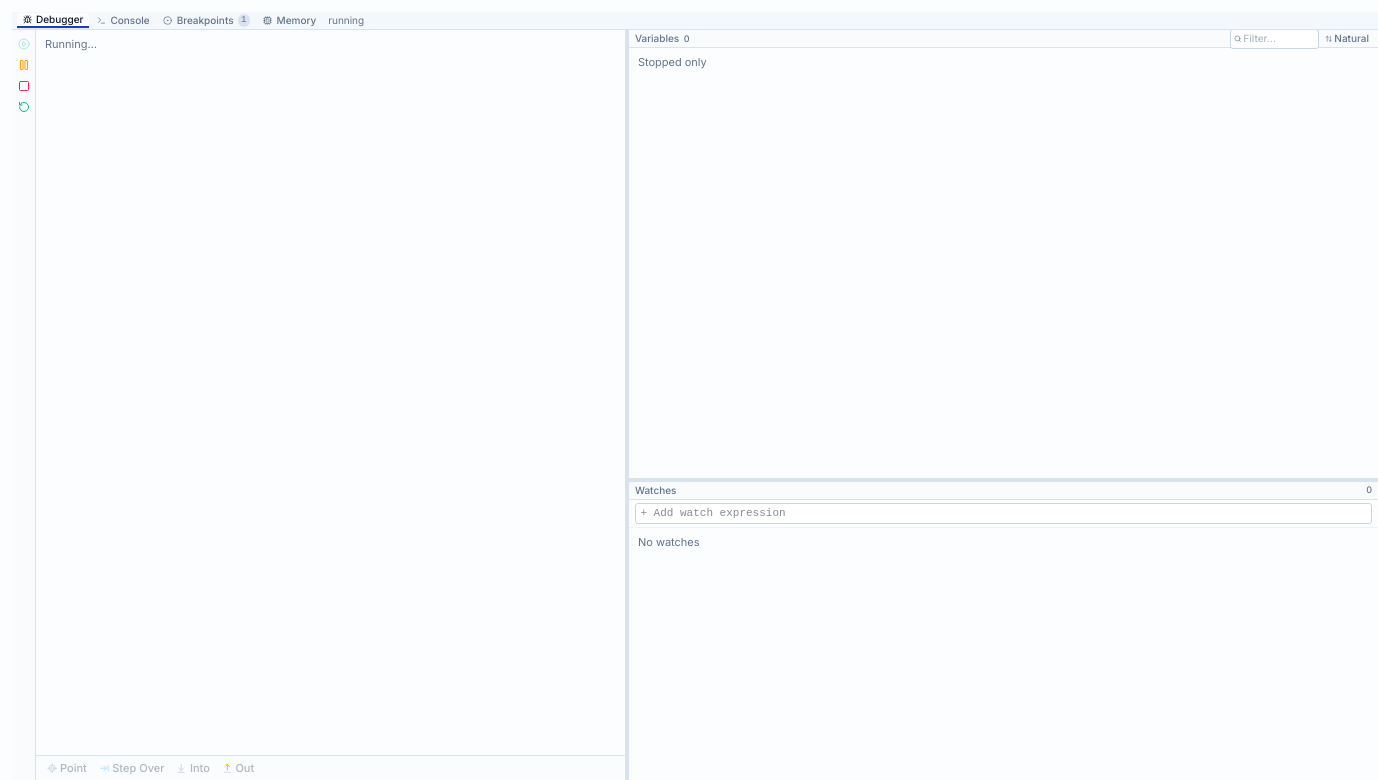
it: DebugPanel › keeps saved instruction breakpoints visible when unsupported
Click the tab with test id "debug-subtab-breakpoints" at {"x": 206, "y": 20}, box 157,13 -> 256,28
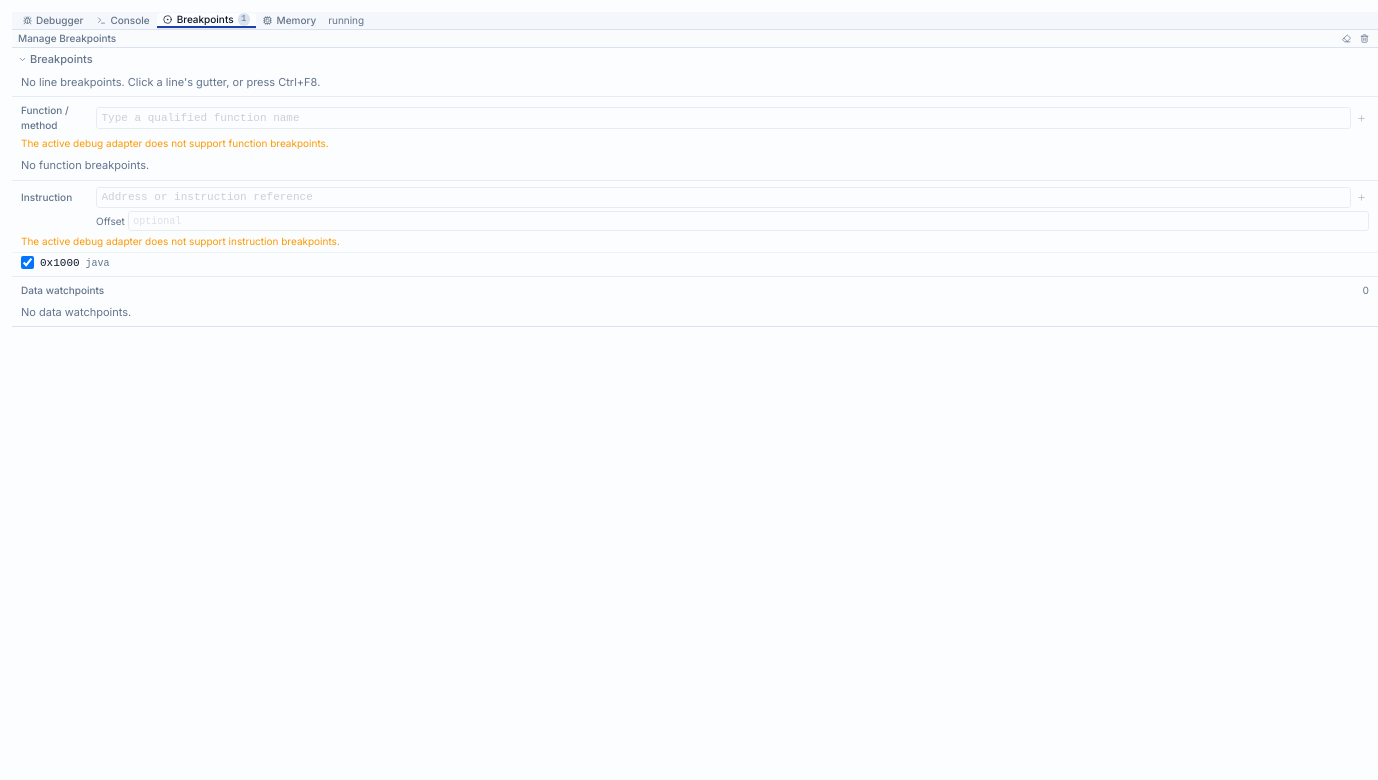
Now the text with test id "debug-instruction-breakpoint-unsupported" is shown, box 21,235 -> 340,247
Now the field with test id "debug-instruction-breakpoint-reference" is disabled, box 96,186 -> 1351,208
Now the element with test id "debug-instruction-breakpoint-row" shows "0x1000", box 40,256 -> 80,268
